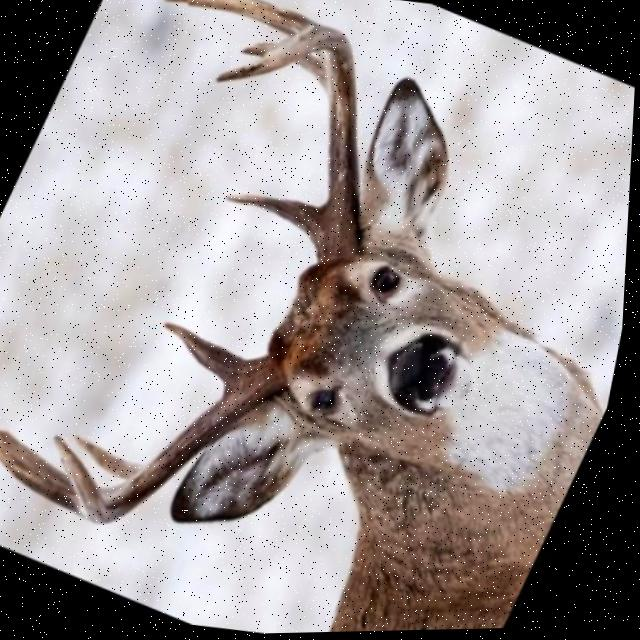L-F: (213, 26, 363, 264)
L-G1: (225, 194, 327, 238)
R-F: (57, 352, 293, 525)
R-G1: (165, 321, 250, 388)
